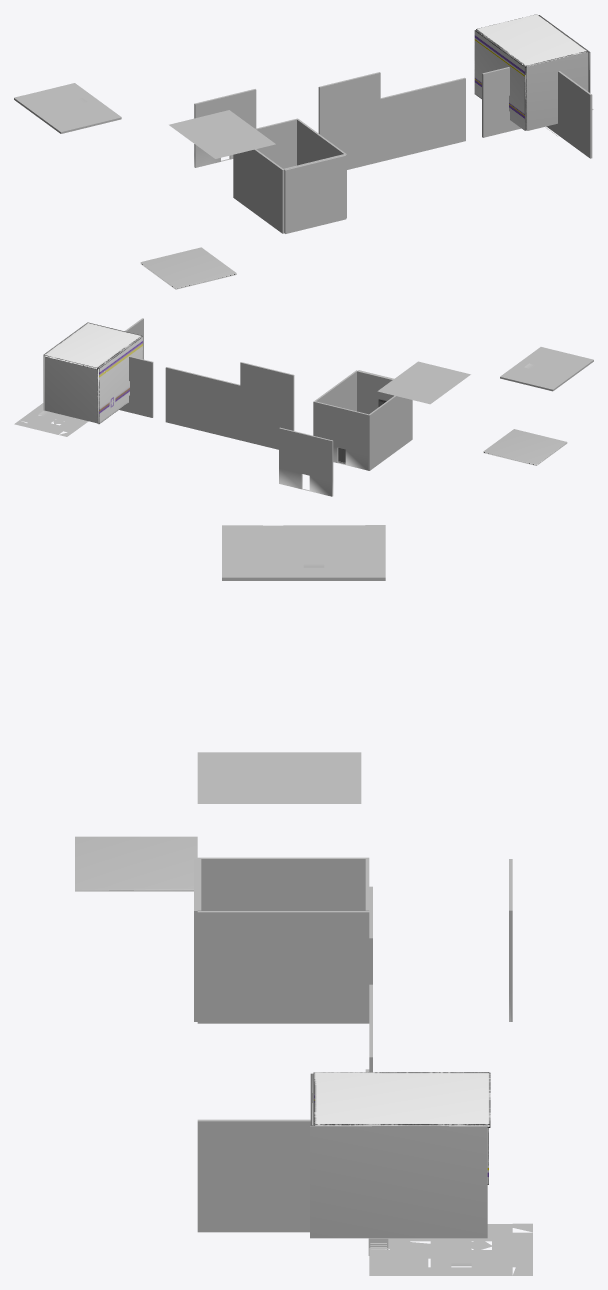
Rendered from SM_Hammer (1).fbx.
3 renders of one model, top to bottom at view 1: azimuth 30°, elevation 25°; view 2: azimuth 150°, elevation 25°; view 3: azimuth 270°, elevation 25°, orthographic. The views are drawn at different scales.
Visible parts, largest first — view 1: SM_Wall.001, SM_Floor, SM_Floor_SideWall.007, SM_Floor_SideWall.001, SM_Floor6, SM_Floor4, Plane.002, Plane.001, SM_Floor2, SM_Floor_SideWall.009, SM_Floor4.001, SM_Entrance (+5 smaller); view 2: SM_Wall.001, SM_Exit_Wall_Doorway, SM_Floor5, SM_Entrance, SM_Floor_SideWall.004, SM_Floor6, SM_Floor_SideWall.001, Plane.002, Plane.001, SM_Floor2, SM_Floor4.001, SM_Floor (+5 smaller); view 3: SM_Floor3, SM_Floor_SideWall.003, SM_Floor_SideWall.009, SM_Floor6, SM_Floor_SideWall.001, Plane.002, Plane.001, SM_Floor4.001, Plane.003, SM_Floor_SideWall.005.
Boxes of the visible parts, left/top/right/bottom form: SM_Wall.001: left=380, top=77, right=465, bottom=161; SM_Floor: left=318, top=72, right=380, bottom=169; SM_Floor_SideWall.007: left=284, top=155, right=346, bottom=233; SM_Floor_SideWall.001: left=233, top=149, right=284, bottom=233; SM_Floor6: left=476, top=14, right=587, bottom=66; SM_Floor4: left=526, top=51, right=588, bottom=130; Plane.002: left=169, top=110, right=275, bottom=158; Plane.001: left=14, top=83, right=121, bottom=131; SM_Floor2: left=474, top=30, right=526, bottom=130; SM_Floor_SideWall.009: left=546, top=71, right=592, bottom=158; SM_Floor4.001: left=140, top=247, right=236, bottom=289; SM_Entrance: left=318, top=99, right=380, bottom=169; SM_Wall.001: left=165, top=367, right=240, bottom=440; SM_Exit_Wall_Doorway: left=279, top=427, right=333, bottom=496; SM_Floor5: left=45, top=357, right=97, bottom=423; SM_Entrance: left=240, top=386, right=294, bottom=449; SM_Floor_SideWall.004: left=315, top=401, right=368, bottom=470; SM_Floor6: left=44, top=323, right=140, bottom=369; SM_Floor_SideWall.001: left=368, top=395, right=412, bottom=470; Plane.002: left=377, top=361, right=470, bottom=404; Plane.001: left=500, top=347, right=593, bottom=389; SM_Floor2: left=97, top=336, right=142, bottom=423; SM_Floor4.001: left=483, top=429, right=567, bottom=465; SM_Floor: left=240, top=362, right=294, bottom=439; SM_Floor3: left=310, top=1125, right=487, bottom=1238; SM_Floor_SideWall.003: left=197, top=911, right=369, bottom=1023; SM_Floor_SideWall.009: left=197, top=1119, right=314, bottom=1232; SM_Floor6: left=314, top=1072, right=490, bottom=1127; SM_Floor_SideWall.001: left=197, top=857, right=369, bottom=910; Plane.002: left=197, top=752, right=361, bottom=803; Plane.001: left=222, top=525, right=385, bottom=577; SM_Floor4.001: left=75, top=836, right=197, bottom=891; Plane.003: left=369, top=1223, right=532, bottom=1275; SM_Floor_SideWall.005: left=222, top=525, right=385, bottom=580.
Size of what is drawn, in the model's own units: 9455 by 2420 by 3733.
